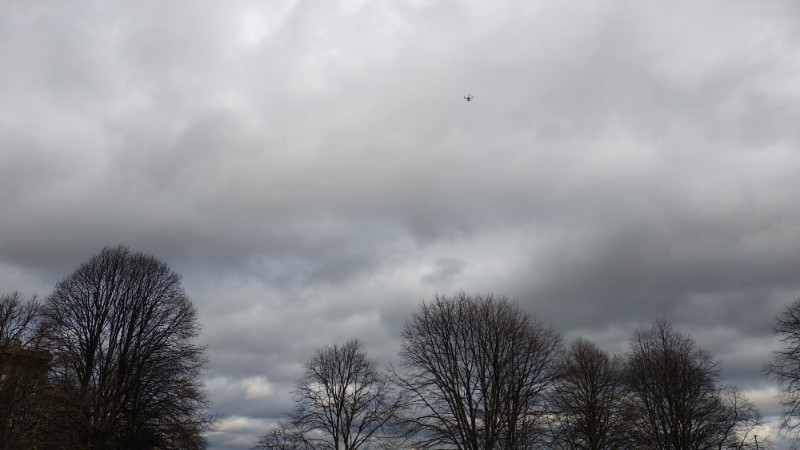drone: (463, 93, 474, 102)
